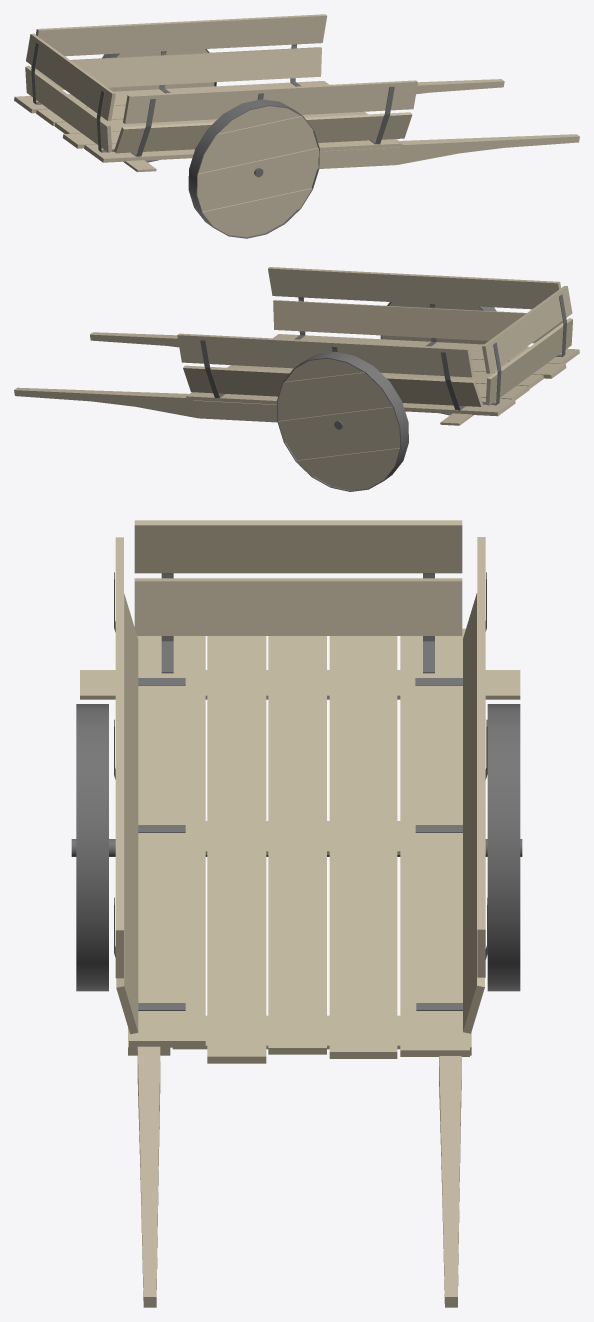
File: Cart.fbx
3 renders of one model, top to bottom at view 1: azimuth 30°, elevation 25°; view 2: azimuth 150°, elevation 25°; view 3: azimuth 270°, elevation 25°, orthographic. The views are drawn at different scales.
Parts seen in each view (by area): view 1: low; view 2: low; view 3: low.
Boxes of the visible parts, x1,y1,x2,y2 form: low: (14, 14, 579, 238); low: (14, 267, 579, 491); low: (71, 520, 522, 1307).
Size of the model in its own units: 32.21 by 10.42 by 12.92.
